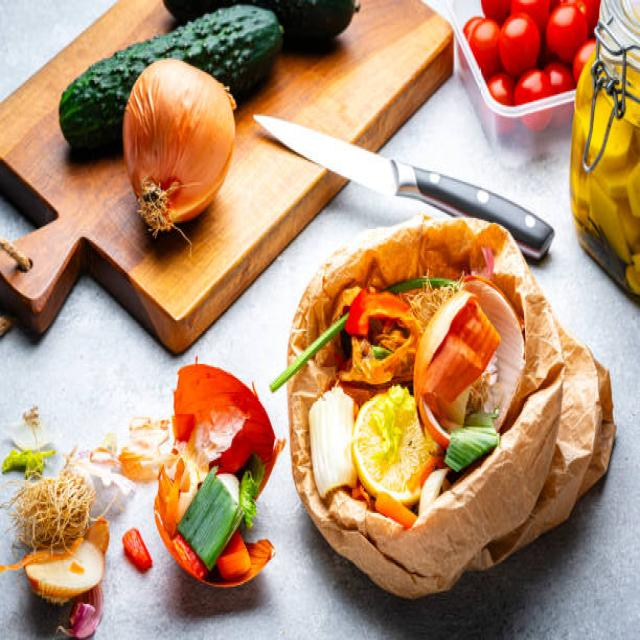paper: (53, 22, 283, 166), (122, 56, 250, 235), (354, 374, 453, 511), (470, 10, 546, 75)
